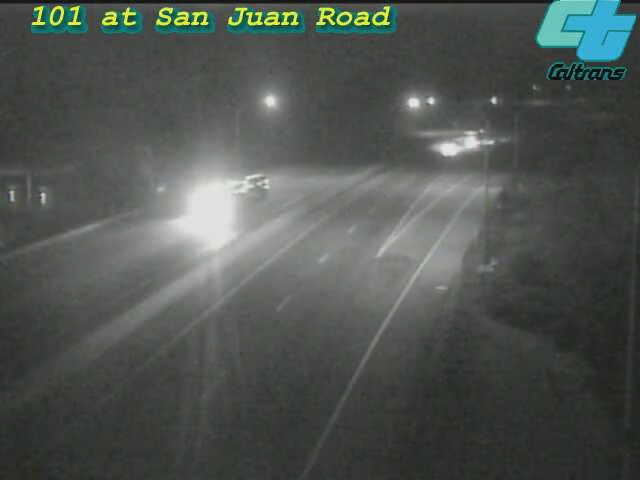vehicle: (180, 154, 260, 234), (451, 114, 501, 164), (424, 124, 474, 174)
